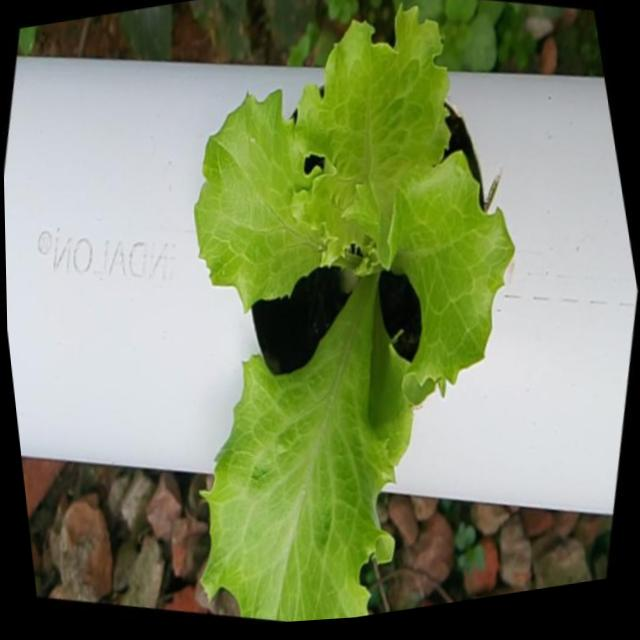Baby: (191, 9, 503, 622)
